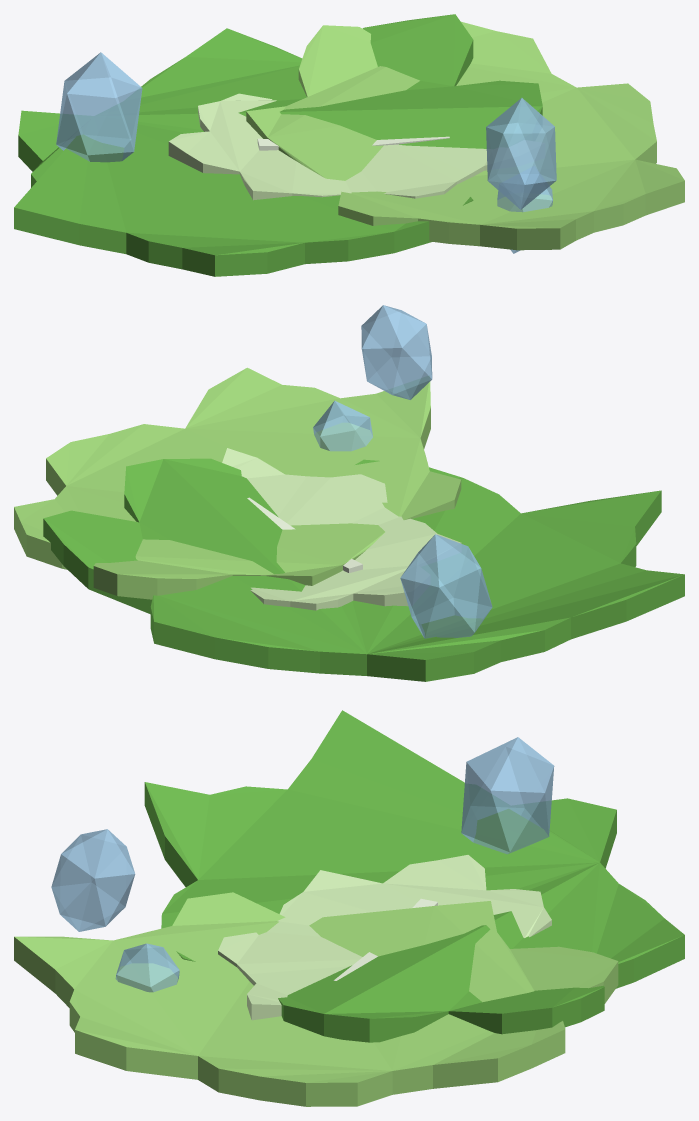
Rendered from IcebergLettuce.fbx.
3 renders of one model, top to bottom at view 1: azimuth 30°, elevation 25°; view 2: azimuth 150°, elevation 25°; view 3: azimuth 270°, elevation 25°, orthographic. The views are drawn at different scales.
Parts seen in each view (by area): view 1: Top_6EBE4E, Top_A6E07E, Top_D6F5BC, Top_A8DCFF_Glass, Top_F2FFE6; view 2: Top_6EBE4E, Top_A6E07E, Top_A8DCFF_Glass, Top_D6F5BC; view 3: Top_6EBE4E, Top_A6E07E, Top_D6F5BC, Top_A8DCFF_Glass.
Boxes of the visible parts, x1,y1,x2,y2 form: Top_6EBE4E: (14,14,542,276); Top_A6E07E: (246,21,684,250); Top_D6F5BC: (168,93,487,200); Top_A8DCFF_Glass: (56,52,556,253); Top_F2FFE6: (257,136,449,150); Top_6EBE4E: (43,458,684,681); Top_A6E07E: (14,367,461,599); Top_A8DCFF_Glass: (313,305,492,638); Top_D6F5BC: (222,448,461,610); Top_6EBE4E: (144,710,684,1042); Top_A6E07E: (14,892,618,1106); Top_D6F5BC: (218,855,551,1020); Top_A8DCFF_Glass: (51,737,554,992).
Size of the model in its own units: 2 by 0.5282 by 1.69.
